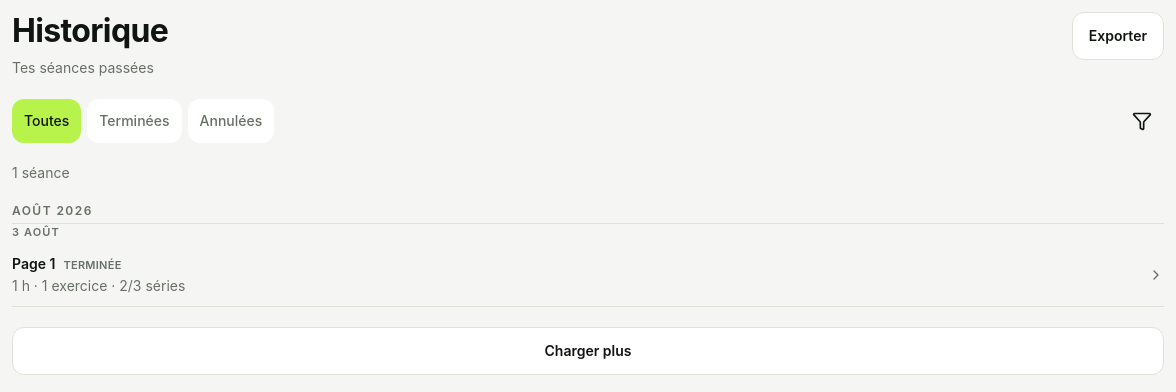
WorkoutsHistoryPage › pagine avec Charger plus et conserve les pages
Check: the text "Page 1" is shown, box [12,254,55,274]
Click the button "Charger plus" at (588, 351), box [12,327,1164,375]
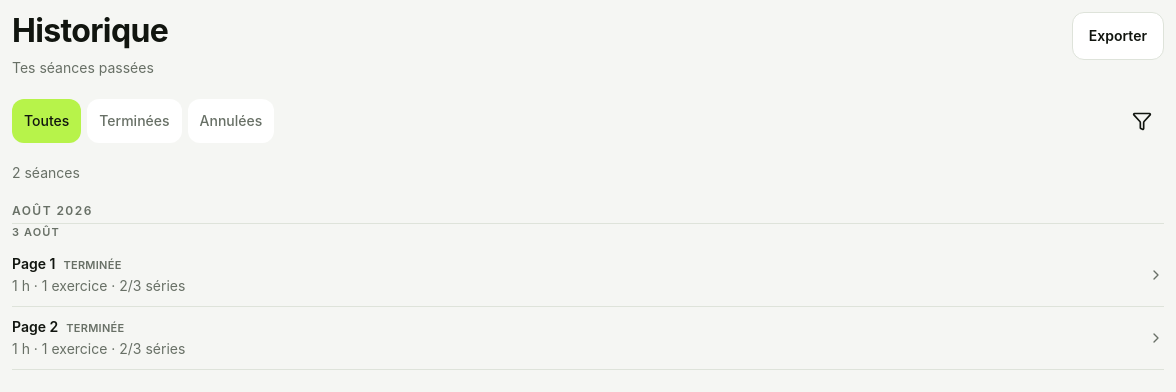
Check: the text "Page 1" is shown, box [12,254,55,274]
Check: the text "Page 2" is shown, box [12,317,58,337]
